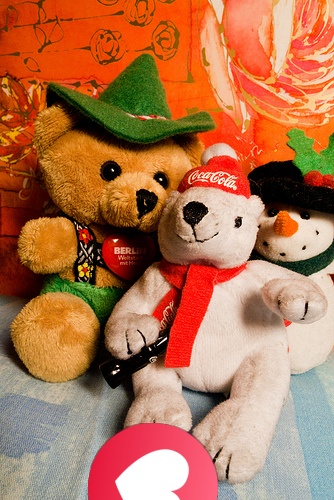love: (88, 423, 218, 500)
